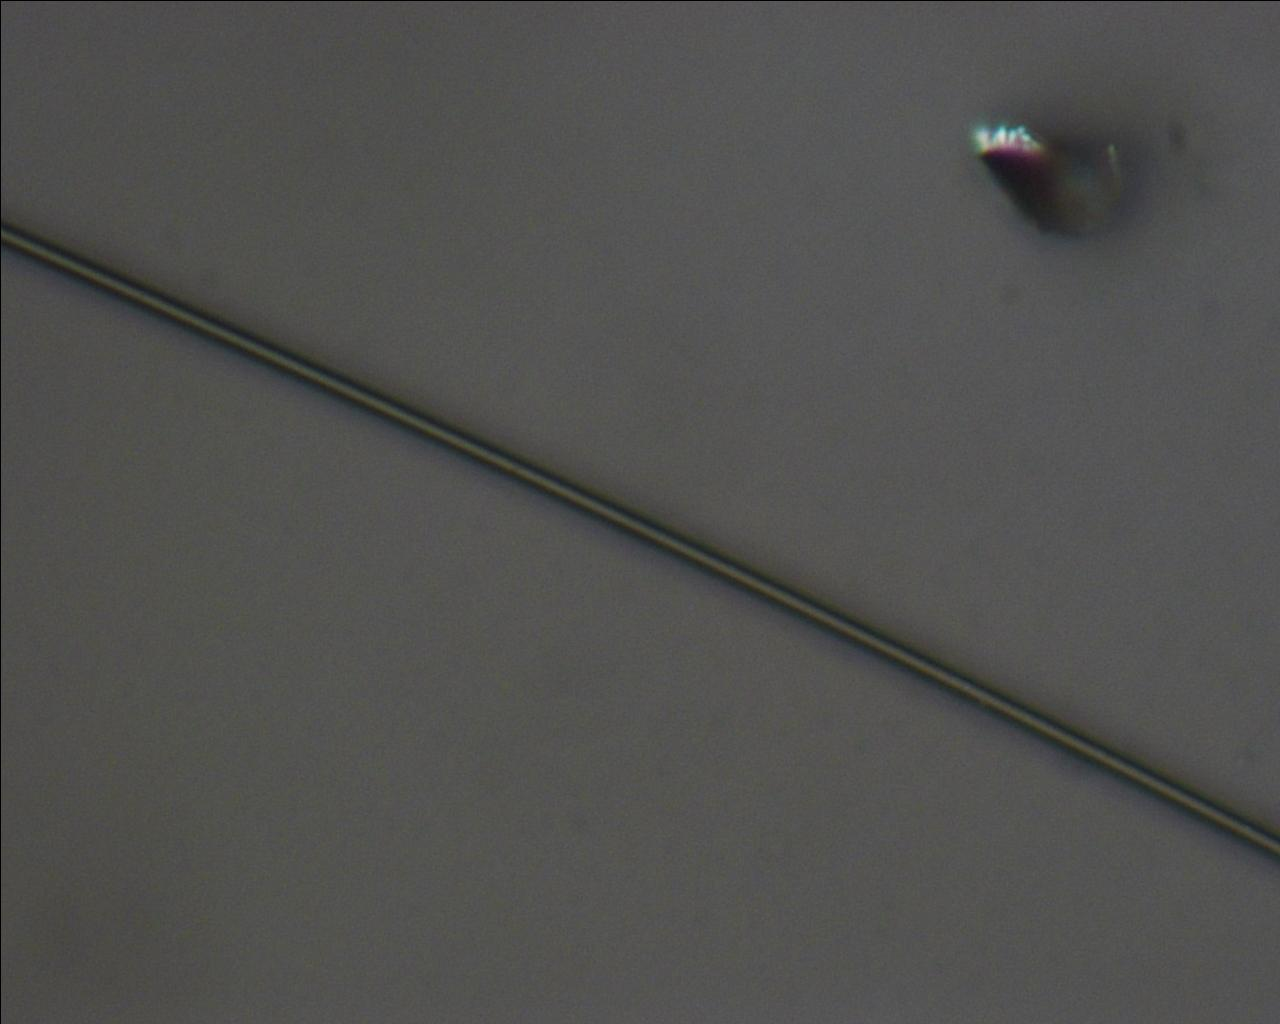fiber: (0, 223, 1280, 860)
